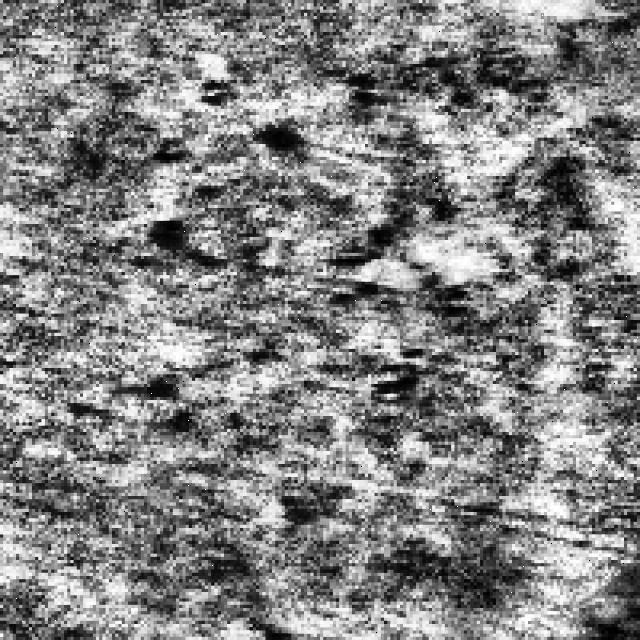Crazing: (304, 202, 499, 406), (132, 64, 310, 272)
